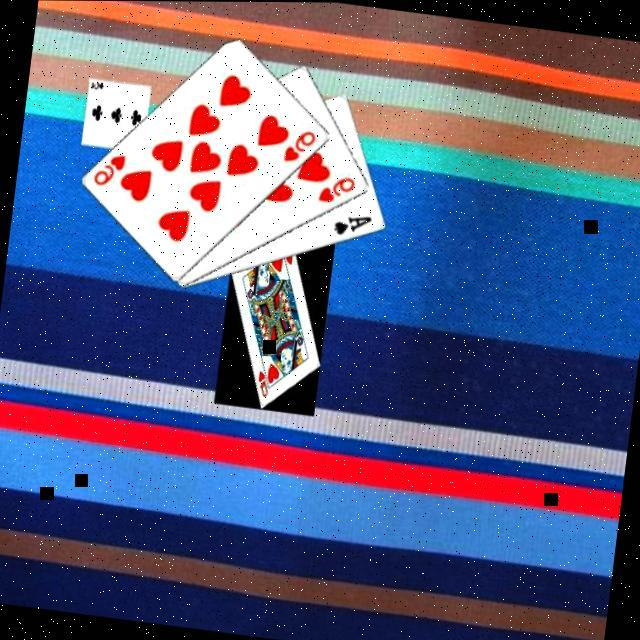9H: (278, 122, 318, 166), (88, 146, 127, 189), (313, 168, 357, 206)
AS: (328, 207, 373, 240)
